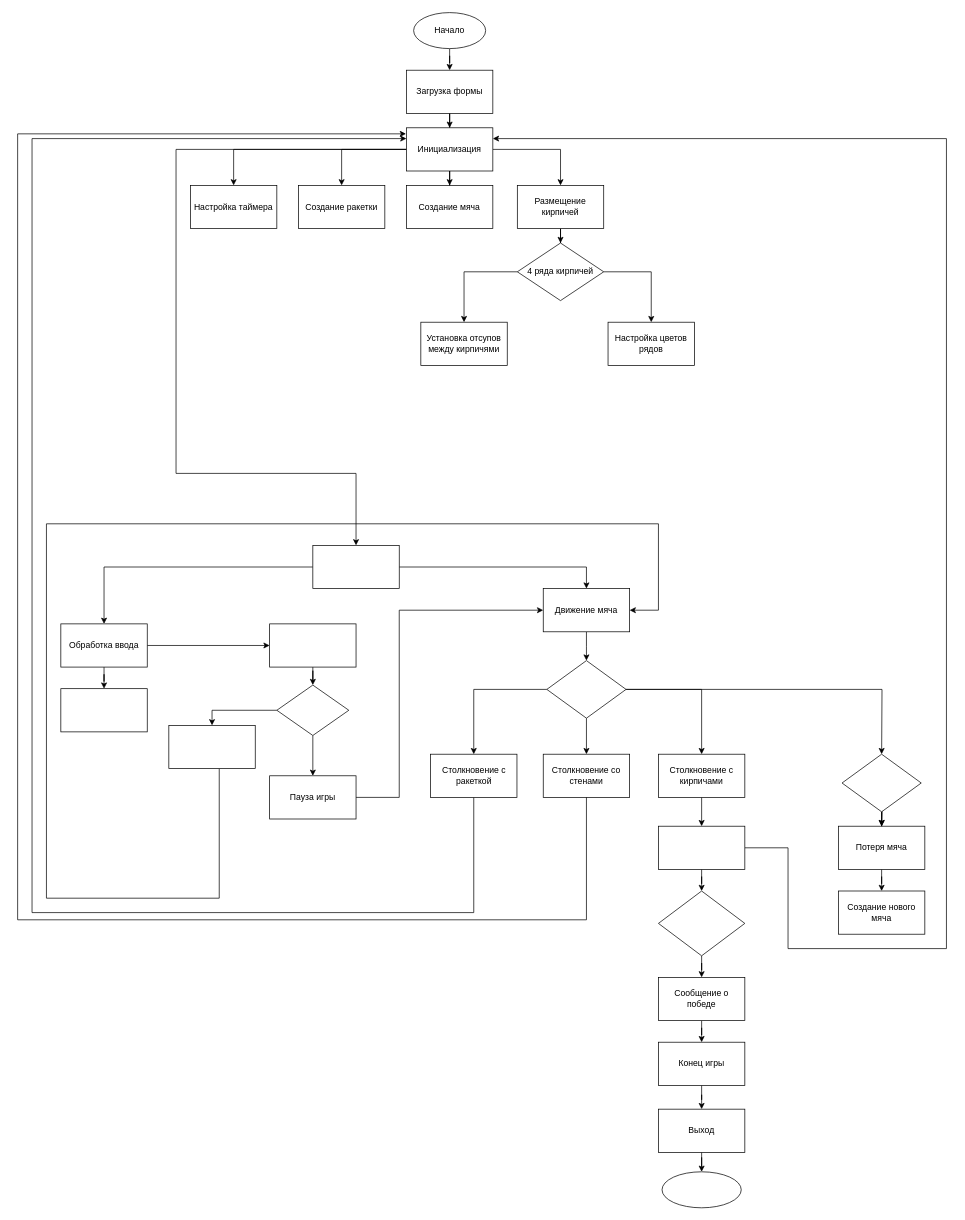
The diagram is 965 pixels wide and 1220 high, and some of its shapes have lost their labels. Here are the shapes that lost their labels. From the top down, the centre of each, then its label:
At (x=355, y=567): "Основной цикл".
At (x=312, y=645): "Клавиша пробел".
At (x=312, y=709): "Состояние игры".
At (x=586, y=689): "Проверка столкновений".
At (x=103, y=710): "Управление мышью".
At (x=211, y=747): "Старт игры".
At (x=881, y=782): "проверка границ".
At (x=701, y=847): "Удаление кирпича".
At (x=701, y=923): "Все кирпичи уничтожены?".
At (x=701, y=1189): "Конец".
